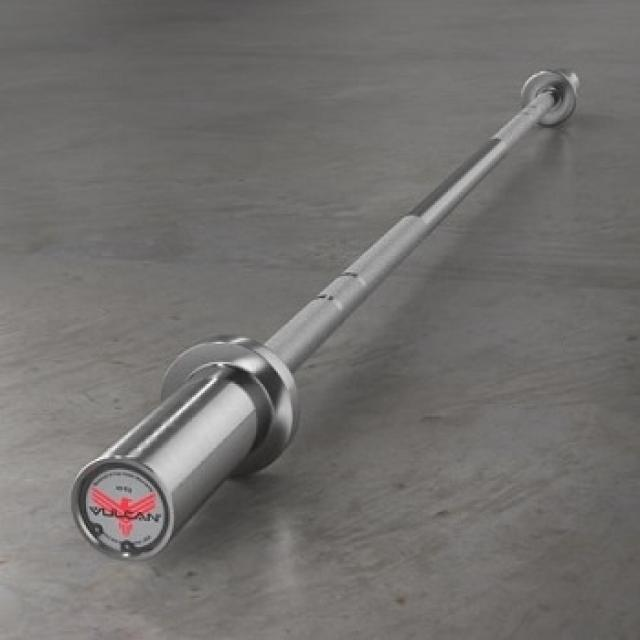barbell_plate_side: (70, 66, 198, 561), (454, 66, 582, 561)
